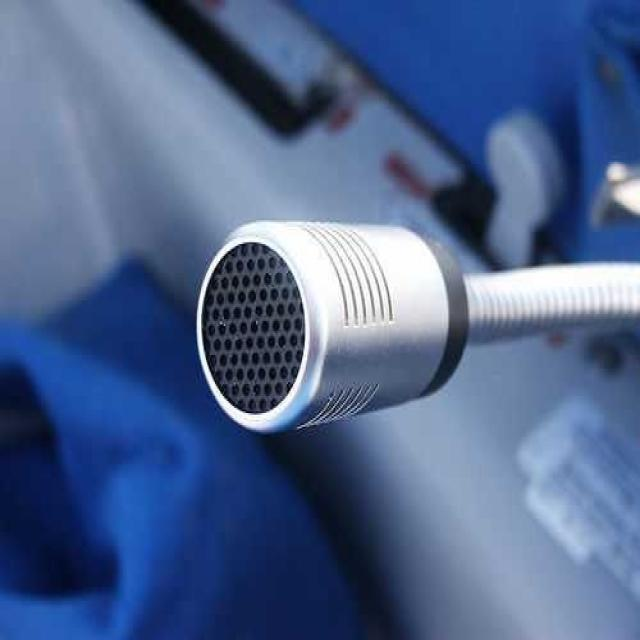microphone: (202, 215, 634, 431)
